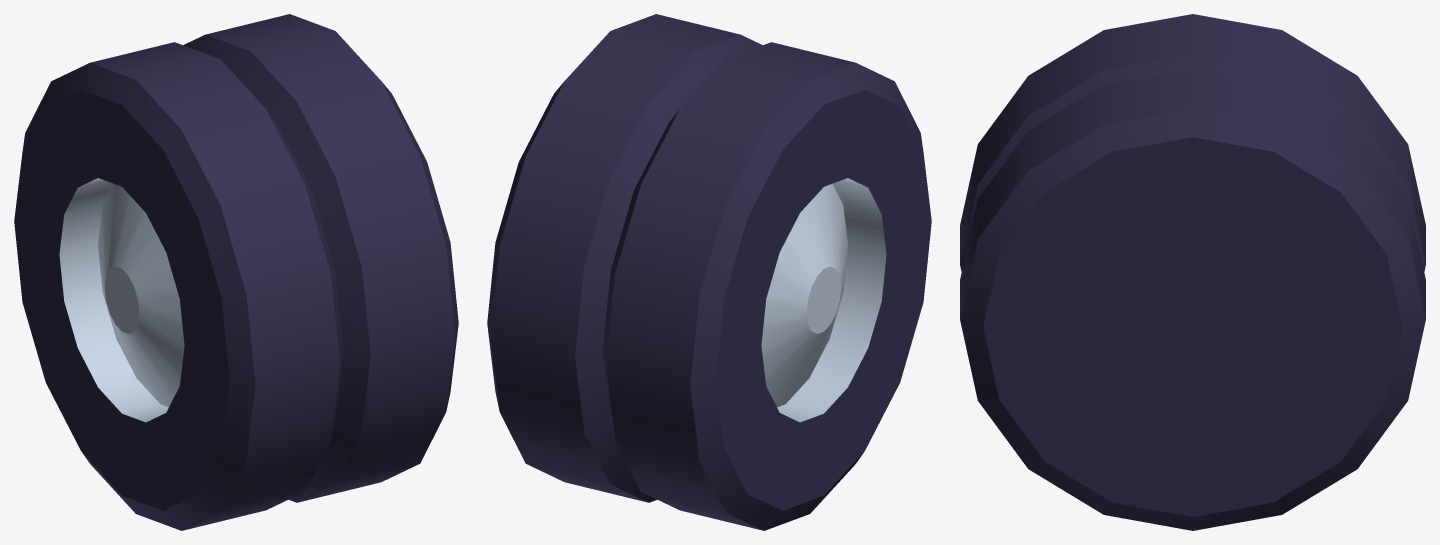
The model's file is WheelB.fbx.
3 views of the same model, side by side, from view 1: azimuth 30°, elevation 25°; view 2: azimuth 150°, elevation 25°; view 3: azimuth 270°, elevation 25° (orthographic). The views are drawn at different scales.
Visible parts, largest first — view 1: Wheel; view 2: Wheel; view 3: Wheel.
Part boxes in pixels (left/top/right/bottom): Wheel: left=14, top=14, right=458, bottom=530; Wheel: left=487, top=14, right=931, bottom=530; Wheel: left=960, top=14, right=1425, bottom=530.
Size of the model in its own units: 1.49 by 2.7 by 2.7.
